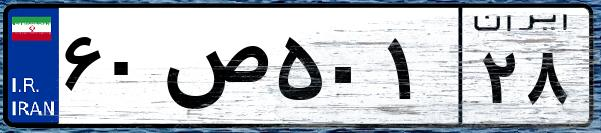0: (330, 28, 385, 110), (110, 28, 158, 98)
1: (385, 28, 445, 110)
2: (475, 38, 525, 113)
5: (270, 28, 330, 110)
6: (57, 26, 110, 100)
8: (525, 38, 570, 115)
ص: (158, 20, 270, 120)
